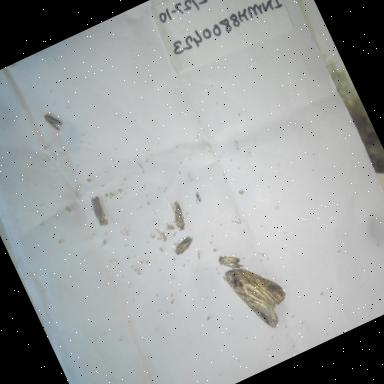pbw: (214, 248, 301, 344), (80, 188, 118, 235), (160, 192, 196, 236), (165, 228, 204, 268), (212, 243, 244, 275), (39, 106, 70, 138)
